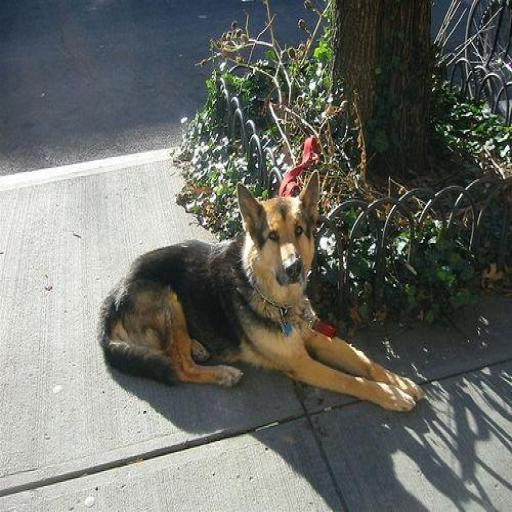dog_face: (237, 177, 321, 293)
